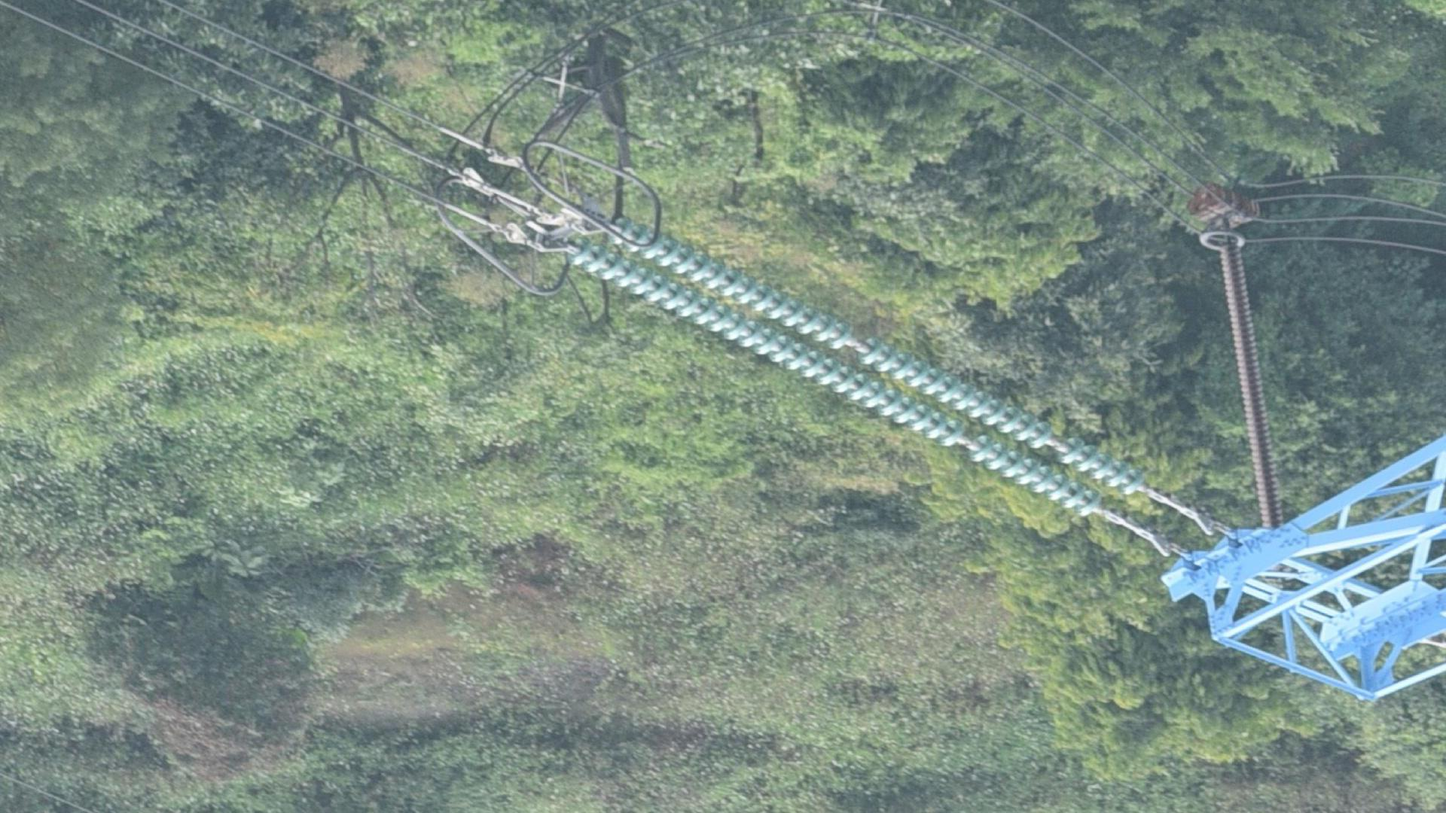insulator: (564, 211, 1147, 522), (1216, 239, 1286, 533)
insulator_stringdrop: (1025, 419, 1088, 467), (825, 318, 885, 368), (935, 417, 998, 464)
